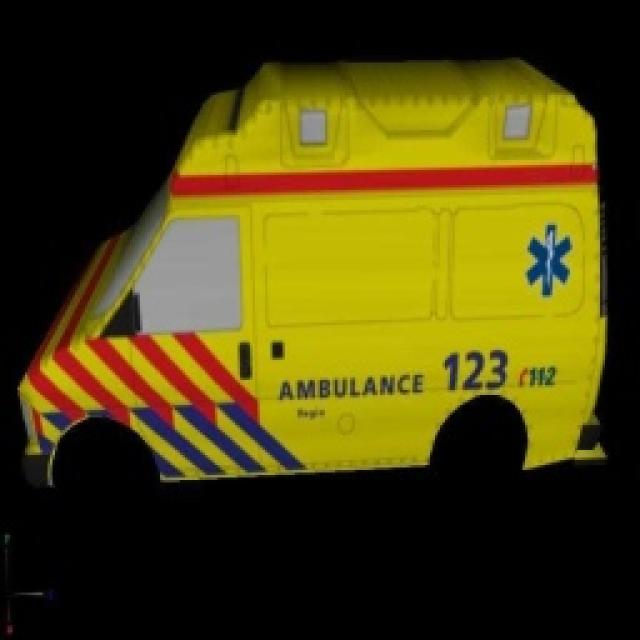emergency-vehicle: (26, 53, 617, 512)
